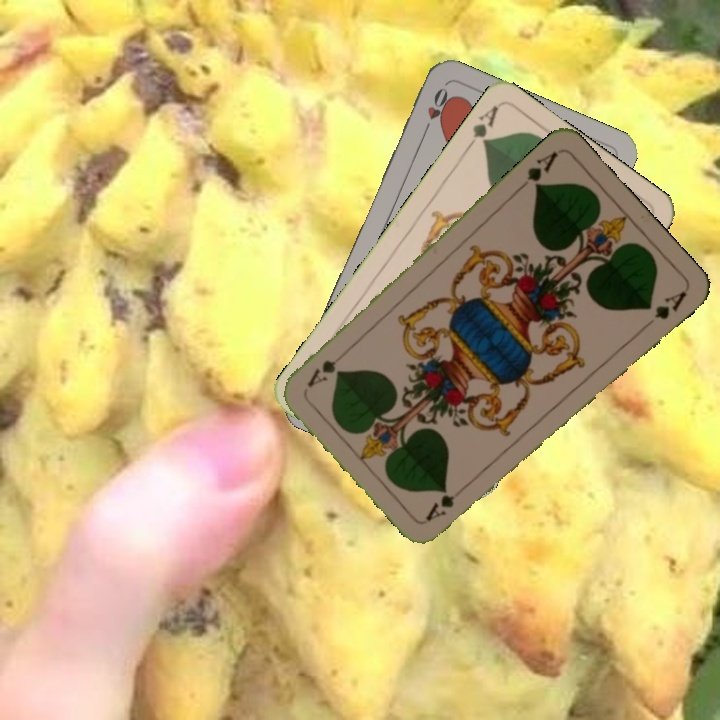GA: (421, 480, 471, 524), (461, 101, 502, 154), (514, 147, 561, 193)
HO: (419, 83, 451, 138)
